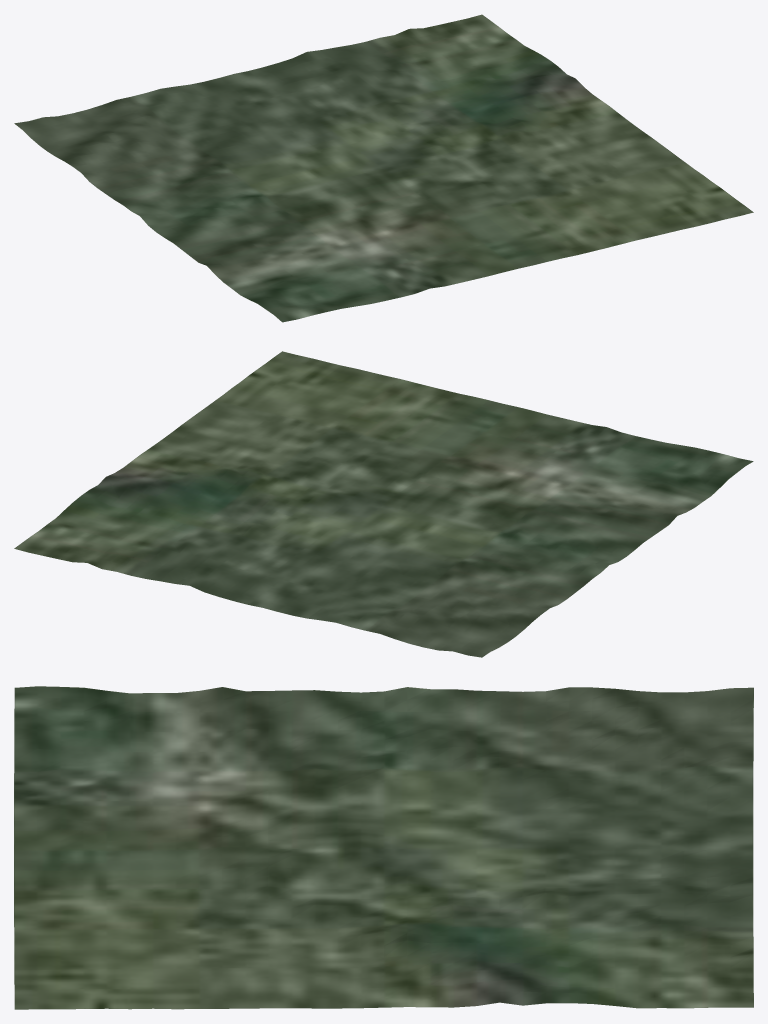
3 renders of one model, top to bottom at view 1: azimuth 30°, elevation 25°; view 2: azimuth 150°, elevation 25°; view 3: azimuth 270°, elevation 25°, orthographic. The views are drawn at different scales.
Bounding box in the file's own units: 62460 × 932 × 62024.
Materials: 1 (1 with a texture image).
